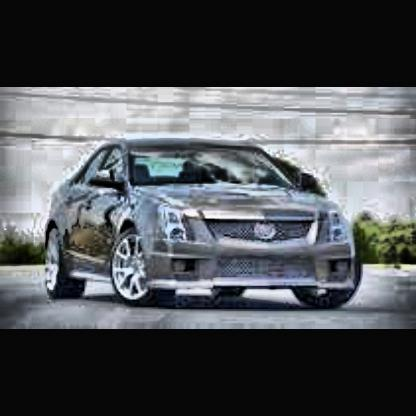Cadillac CTS-V Sedan 2012: (47, 142, 366, 313)
